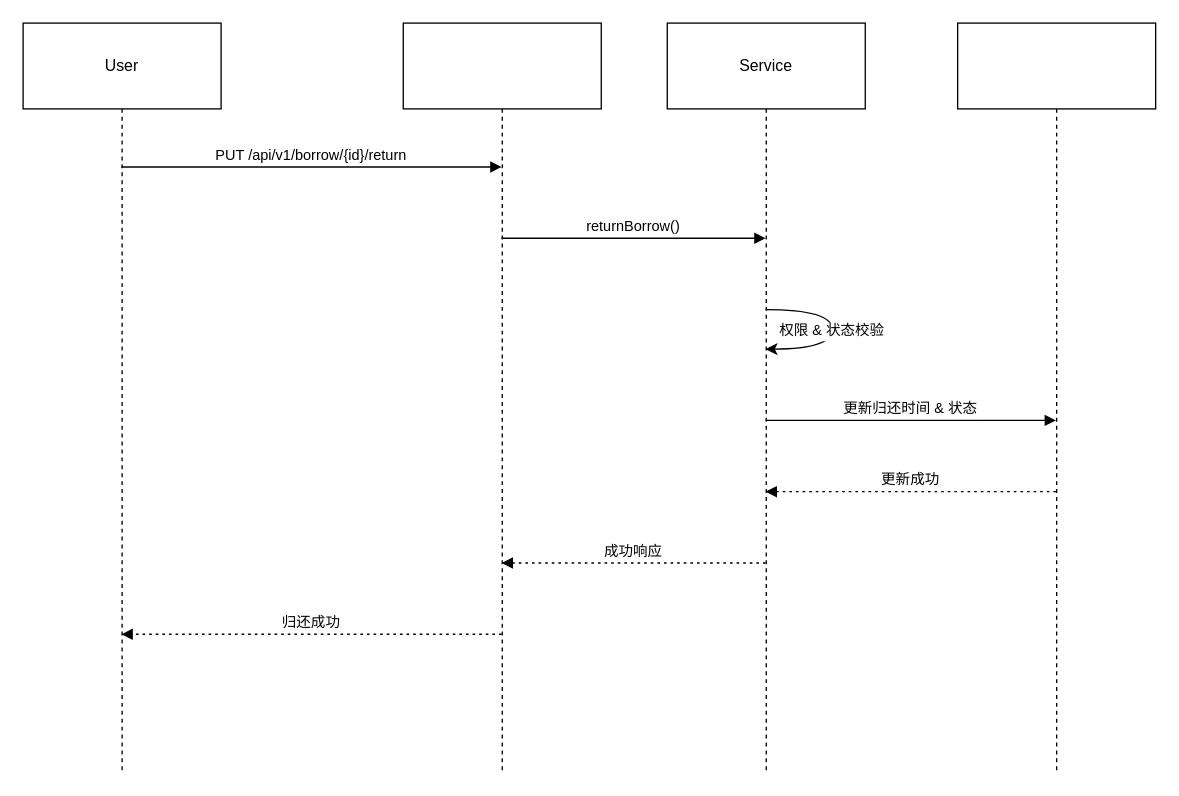
This 1179x796 diagram has some shape labels left out. Here are the shapes that lost their labels. From the top down, the box of each, then its label:
(402, 22, 601, 773): Controller
(956, 22, 1156, 773): DB
